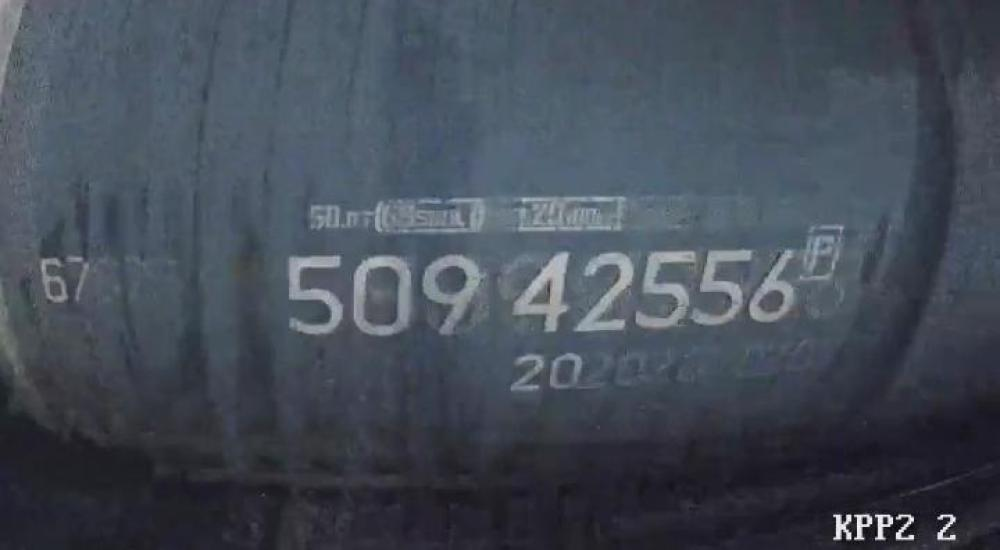Wagon-number: (277, 241, 806, 342)
